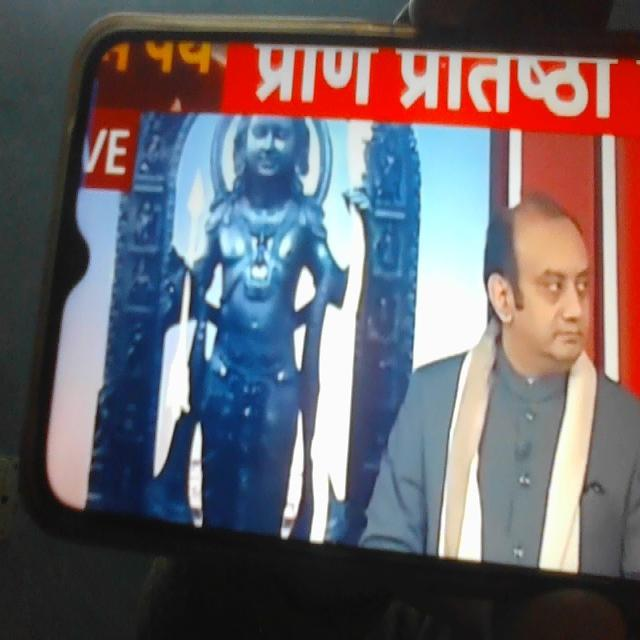fake: (492, 159, 620, 400)
